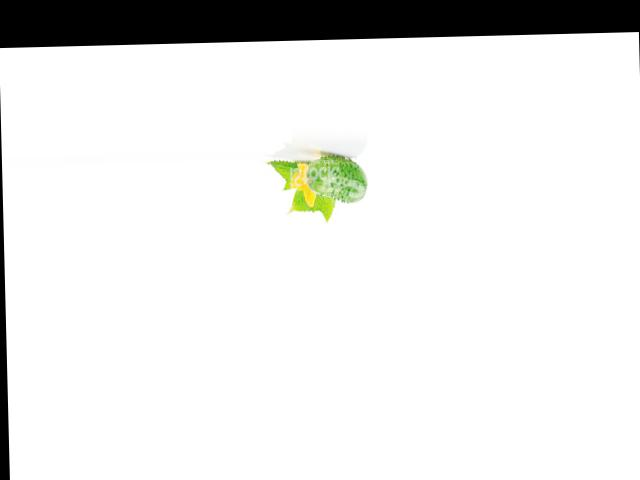cucumber: (307, 154, 368, 203)
